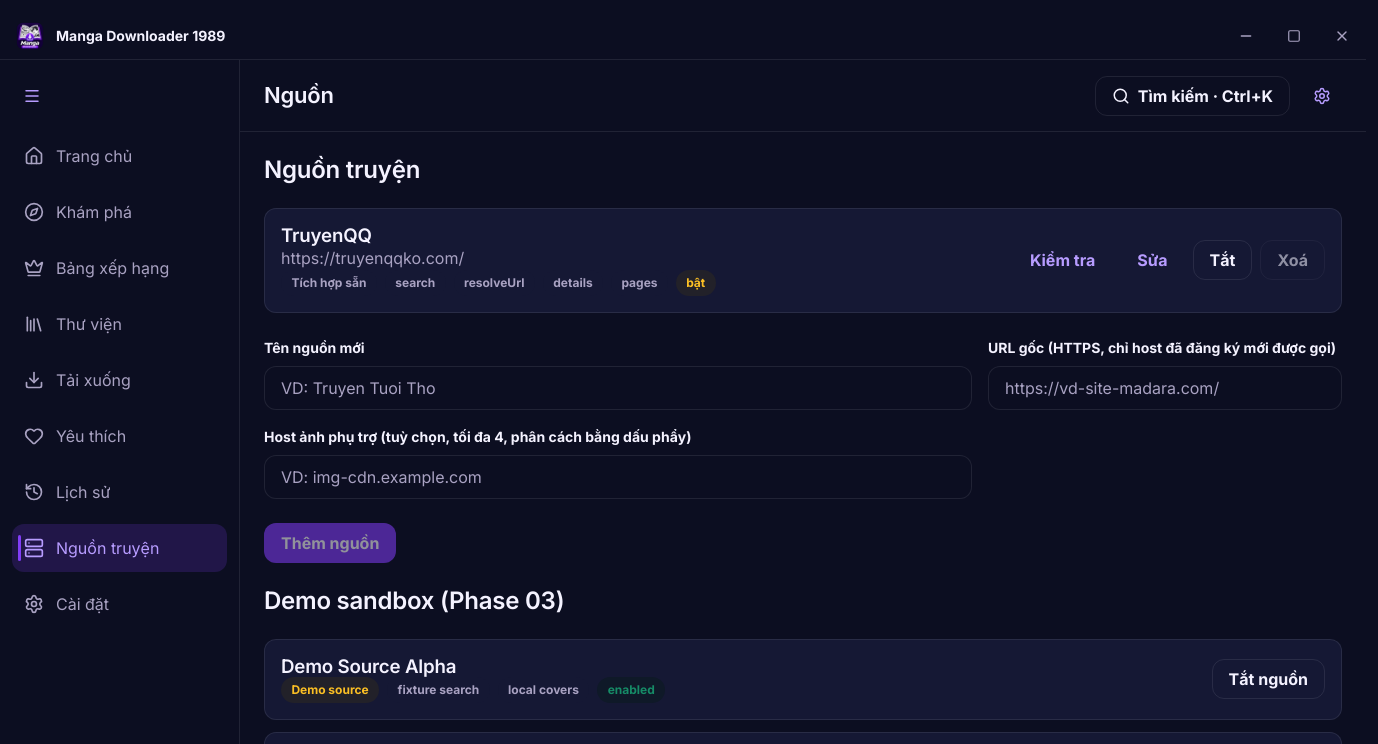
Kiểm tra nguồn › shows the source's own code when the source answers with a failure
Click the button "Kiểm tra". click: (1063,260)
box: [1013,240,1112,280]
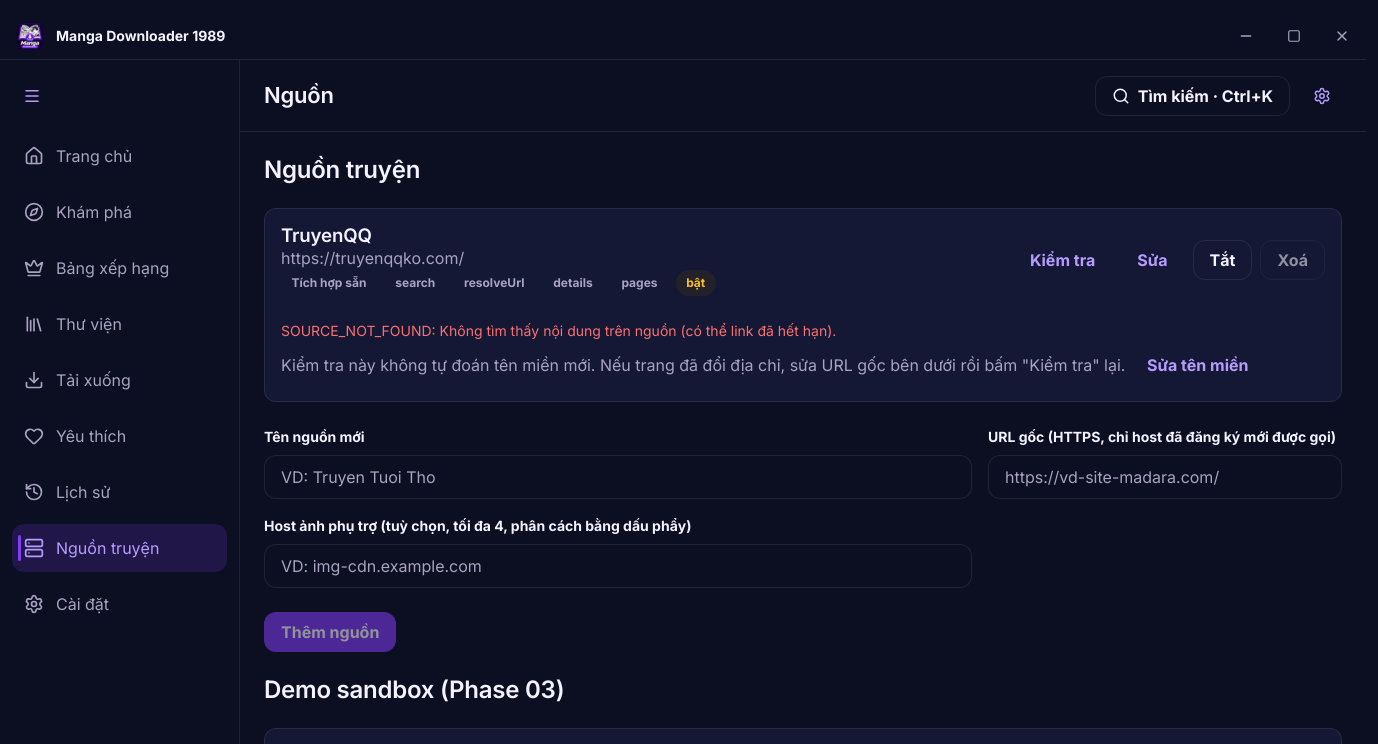
Result: the text "SOURCE_NOT_FOUND: Không tìm thấy nội dung trên nguồn (có thể link đã hết hạn)." is shown at [281,322,836,339]
